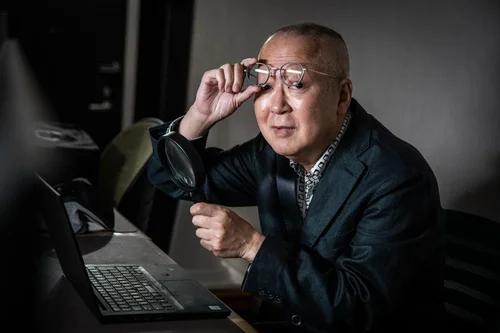human: (155, 24, 449, 333)
